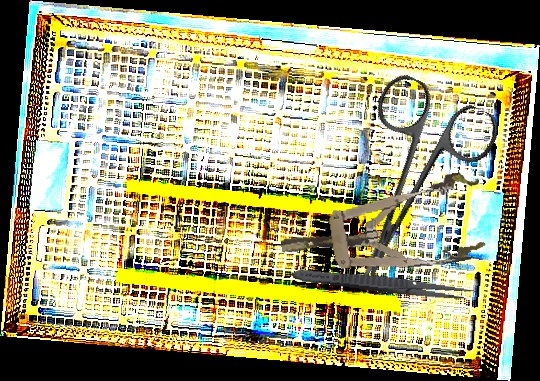Dressing Forceps: (289, 265, 477, 303)
Iris Scissors: (306, 68, 505, 307)
Speculum: (274, 169, 491, 289)
